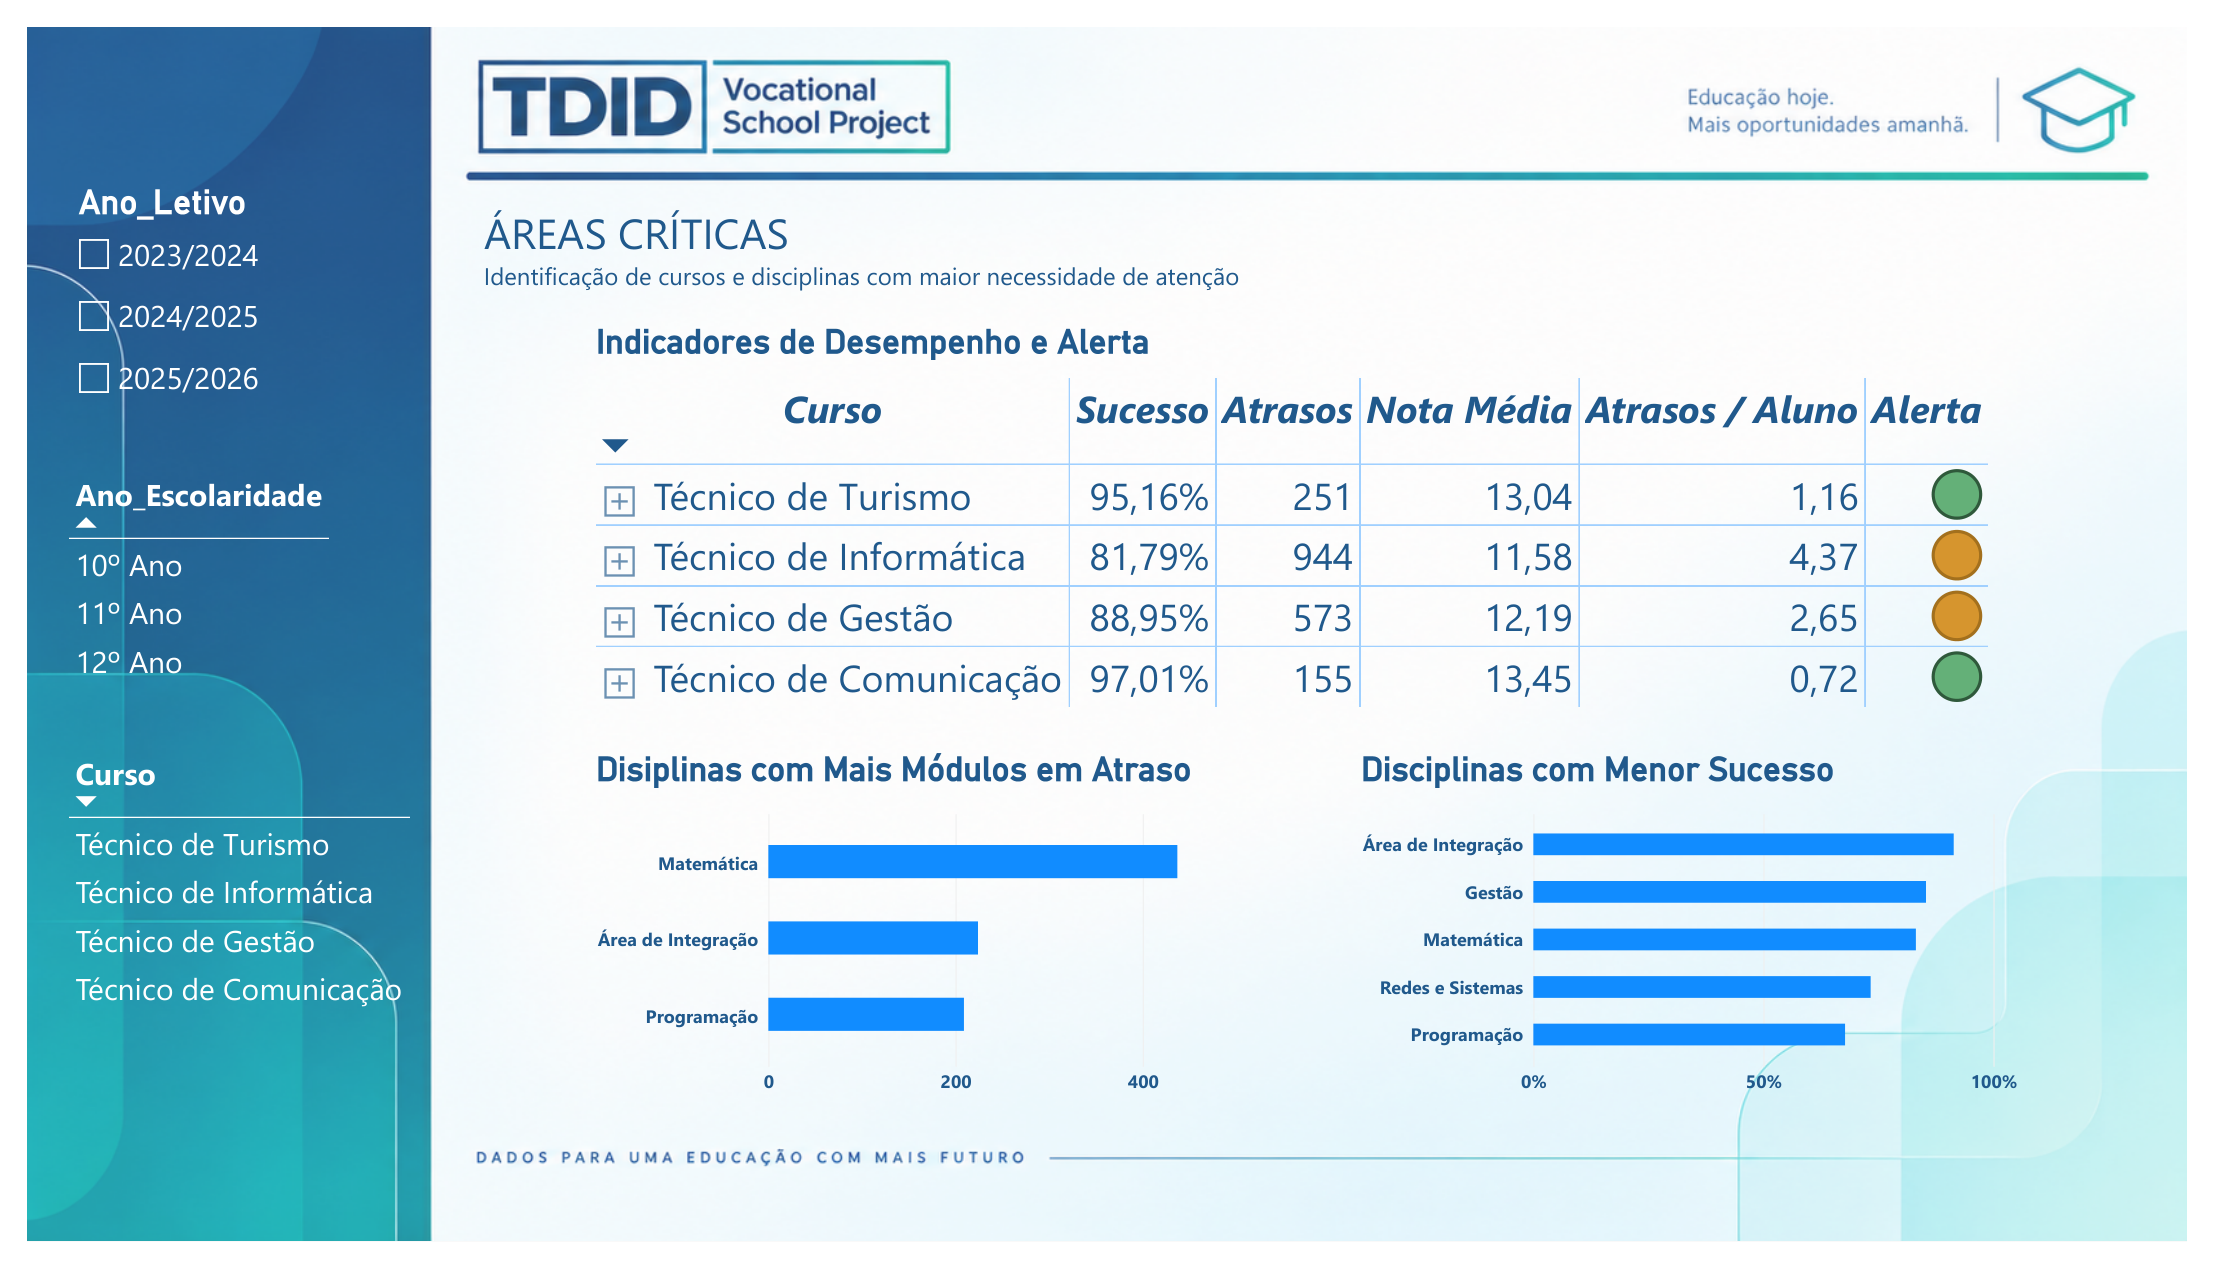

Layout of this report page (visuals, bound fields, positions):
{"tool":"powerbi","page":{"name":"Áreas Críticas","canvas":[1920,1080],"ordinal":4},"visuals":[{"type":"pivotTable","title":"Indicadores de Desempenho e Alerta","fields":{"Rows":["dCurso.Curso","dMatricula.Ano_Escolaridade","dDisciplina.Disciplina"],"Values":["_Medidas.Taxa de Sucesso","_Medidas.Módulos em Atraso","_Medidas.Média das Notas","_Medidas.Média Módulos em Atraso por Aluno","_Medidas.Nível de Alerta"]},"box":[490,247.5,1295,380],"z":0},{"type":"textbox","box":[405.6,157.5,699.1,140.8],"z":1000},{"type":"barChart","title":"Disiplinas com Mais Módulos em Atraso","fields":{"Category":["dDisciplina.Disciplina"],"Y":["_Medidas.Módulos em Atraso"]},"box":[490,627.5,615,342.5],"z":2000},{"type":"tableEx","fields":{"Values":["dCurso.Curso"]},"box":[21.5,627.5,362.7,326.9],"z":3000},{"type":"slicer","fields":{"Values":["dCalendario.Ano_Letivo"]},"box":[38.2,138.4,195.6,217.1],"z":4000},{"type":"tableEx","fields":{"Values":["dMatricula.Ano_Escolaridade"]},"box":[21.5,379.4,295.9,248.1],"z":5000},{"type":"barChart","title":"Disciplinas com Menor Sucesso","fields":{"Category":["dDisciplina.Disciplina"],"Y":["_Medidas.Taxa de Sucesso"]},"box":[1170,627.5,615,342.5],"z":6000}]}

Visuals, with their boxes in screenshot pixels (x1, y1, x2, y2), scaled from the page's 1920x1080 canvas onto the 2214x1269 screenshot:
"Indicadores de Desempenho e Alerta" pivotTable: bbox=[565, 291, 2058, 737]
textbox: bbox=[468, 185, 1274, 351]
"Disiplinas com Mais Módulos em Atraso" barChart: bbox=[565, 737, 1274, 1140]
tableEx - dCurso.Curso: bbox=[25, 737, 443, 1121]
slicer - dCalendario.Ano_Letivo: bbox=[44, 163, 270, 418]
tableEx - dMatricula.Ano_Escolaridade: bbox=[25, 446, 366, 737]
"Disciplinas com Menor Sucesso" barChart: bbox=[1349, 737, 2058, 1140]
